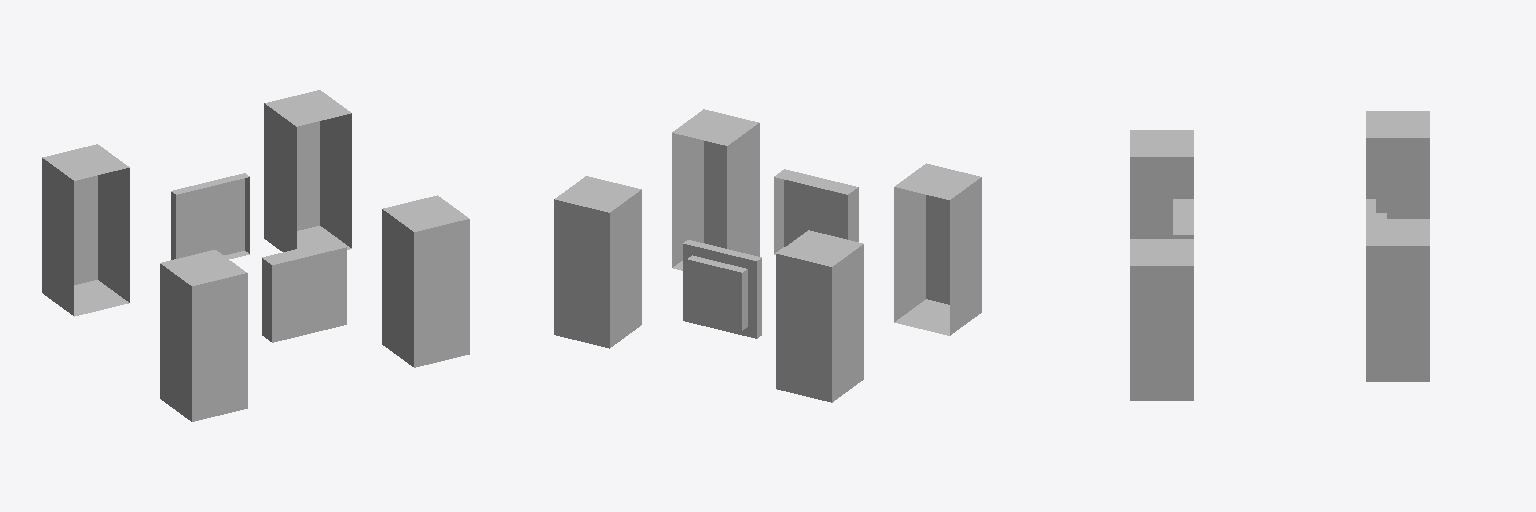
Rendered from elytra_booster.obj.
The picture shows the model from 3 angles: view 1: azimuth 30°, elevation 25°; view 2: azimuth 150°, elevation 25°; view 3: azimuth 270°, elevation 25°; orthographic projection.
Parts seen in each view (by area): view 1: Cube.002_Cube.009, Cube.003_Cube.004, Cube.004_Cube.003, Cube.001_Cube.002, Cube.006_Cube.005, Cube.005_Cube; view 2: Cube.002_Cube.009, Cube.001_Cube.002, Cube.004_Cube.003, Cube.003_Cube.004, Cube.005_Cube, Cube.006_Cube.005; view 3: Cube.001_Cube.002, Cube.003_Cube.004, Cube.004_Cube.003, Cube.002_Cube.009, Cube.006_Cube.005.
Part boxes in pixels (left/top/right/bottom): Cube.002_Cube.009: left=160, top=250, right=247, bottom=421; Cube.003_Cube.004: left=382, top=195, right=469, bottom=367; Cube.004_Cube.003: left=42, top=144, right=129, bottom=316; Cube.001_Cube.002: left=264, top=90, right=351, bottom=251; Cube.006_Cube.005: left=262, top=240, right=346, bottom=342; Cube.005_Cube: left=171, top=173, right=249, bottom=259; Cube.002_Cube.009: left=894, top=163, right=981, bottom=335; Cube.001_Cube.002: left=554, top=176, right=641, bottom=348; Cube.004_Cube.003: left=776, top=230, right=863, bottom=402; Cube.003_Cube.004: left=672, top=109, right=759, bottom=270; Cube.005_Cube: left=683, top=240, right=761, bottom=338; Cube.006_Cube.005: left=774, top=169, right=858, bottom=254; Cube.001_Cube.002: left=1366, top=219, right=1429, bottom=381; Cube.003_Cube.004: left=1130, top=239, right=1193, bottom=400; Cube.004_Cube.003: left=1366, top=111, right=1429, bottom=218; Cube.002_Cube.009: left=1130, top=130, right=1193, bottom=238; Cube.006_Cube.005: left=1173, top=199, right=1193, bottom=238.
Bounding box in the file's own units: 0.4688 × 0.25 × 0.4375.